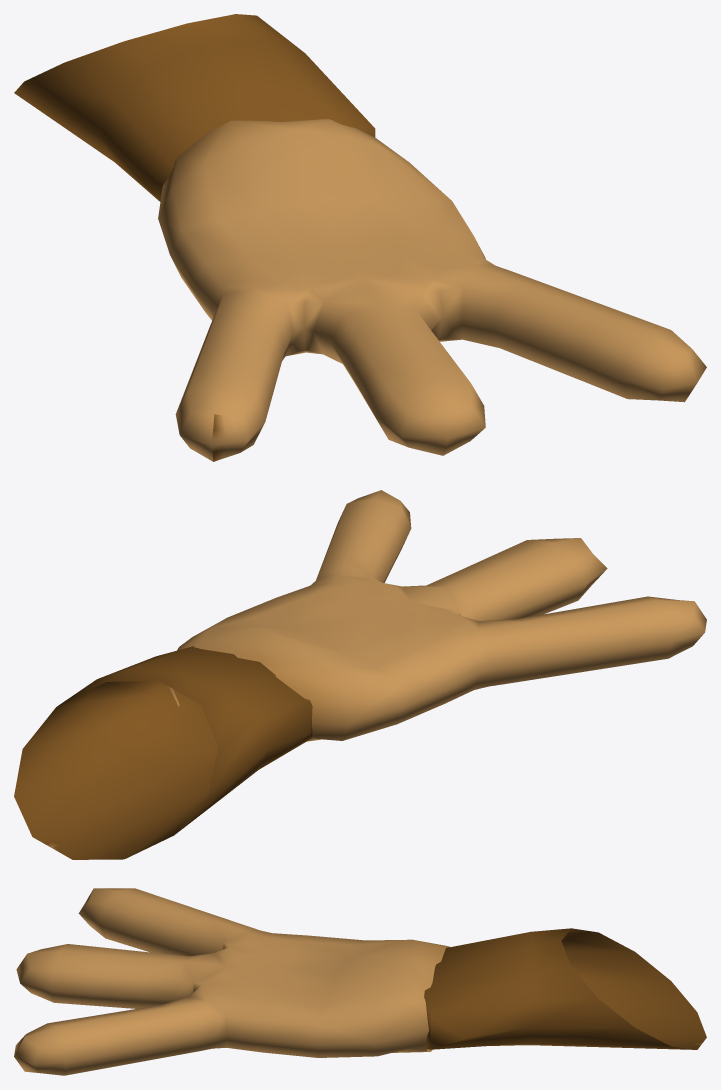
The model's file is Foot.fbx.
3 renders of one model, top to bottom at view 1: azimuth 30°, elevation 25°; view 2: azimuth 150°, elevation 25°; view 3: azimuth 270°, elevation 25°, orthographic. The views are drawn at different scales.
Visible parts, largest first — view 1: monkey; view 2: monkey; view 3: monkey.
Boxes of the visible parts, x1,y1,x2,y2 form: monkey: (14, 14, 706, 461); monkey: (14, 490, 706, 859); monkey: (14, 888, 706, 1075).
Size of the model in its own units: 71.76 by 20.69 by 129.
1 material, 1 textured.
